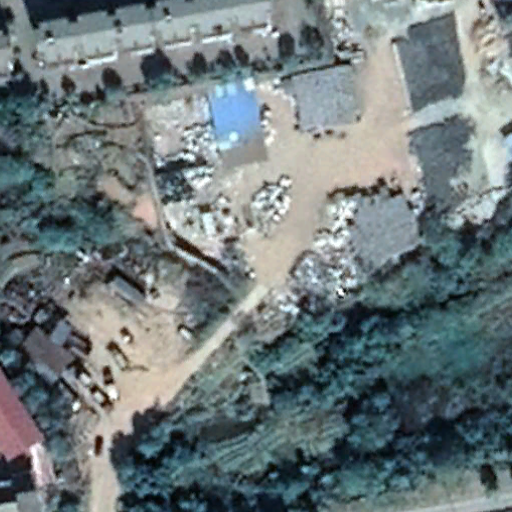msw: (155, 120, 293, 268), (280, 183, 372, 312)
